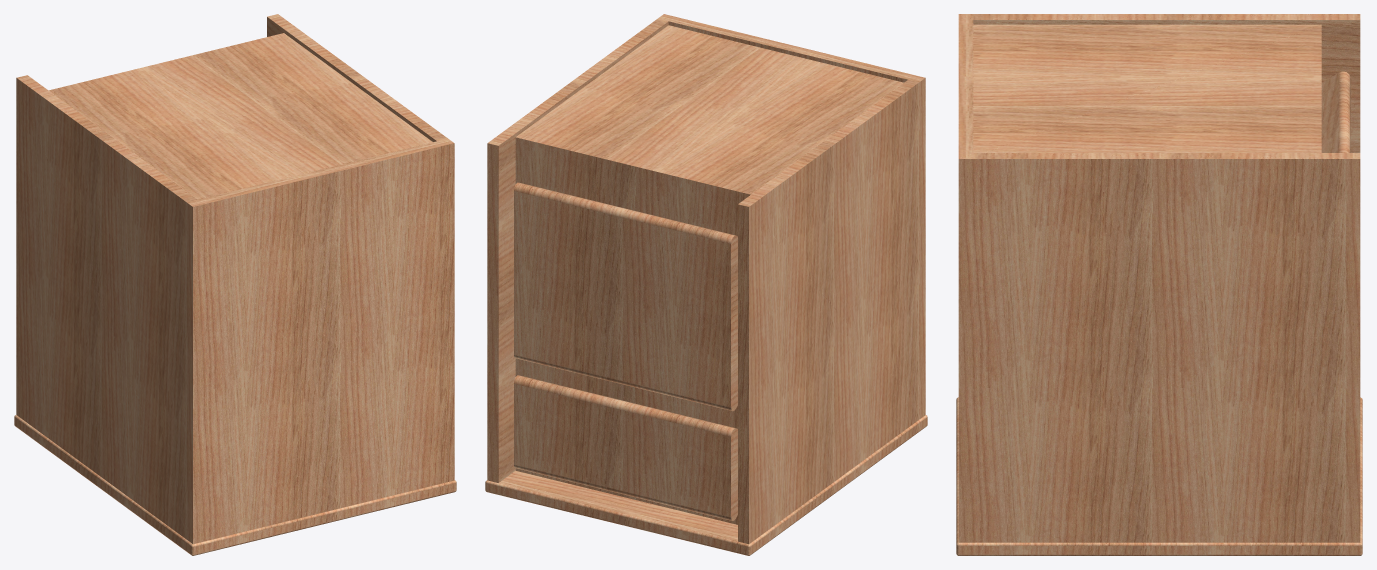
Rendered from SmallDrawer.glb.
The picture shows the model from 3 angles, left to right: view 1: azimuth 30°, elevation 25°; view 2: azimuth 150°, elevation 25°; view 3: azimuth 270°, elevation 25°; orthographic projection. The views are drawn at different scales.
Visible parts, largest first — view 1: Solid1; view 2: Solid1; view 3: Solid1.
Boxes of the visible parts, x1=… form: Solid1: x1=14, y1=14, x2=456, y2=555; Solid1: x1=485, y1=14, x2=927, y2=555; Solid1: x1=956, y1=14, x2=1362, y2=555.
Bounding box in the file's own units: 0.4572 × 0.5747 × 0.5334.
1 material, 1 textured.
